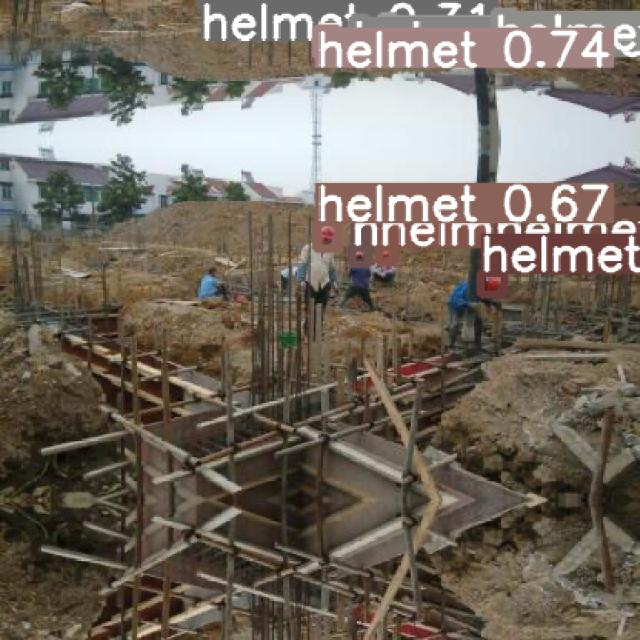helmet: (315, 28, 337, 55), (316, 222, 338, 248), (480, 272, 503, 294), (494, 246, 514, 266), (494, 11, 514, 31), (350, 246, 368, 263), (378, 246, 394, 262), (380, 16, 394, 30), (352, 17, 366, 31), (200, 0, 222, 8)
